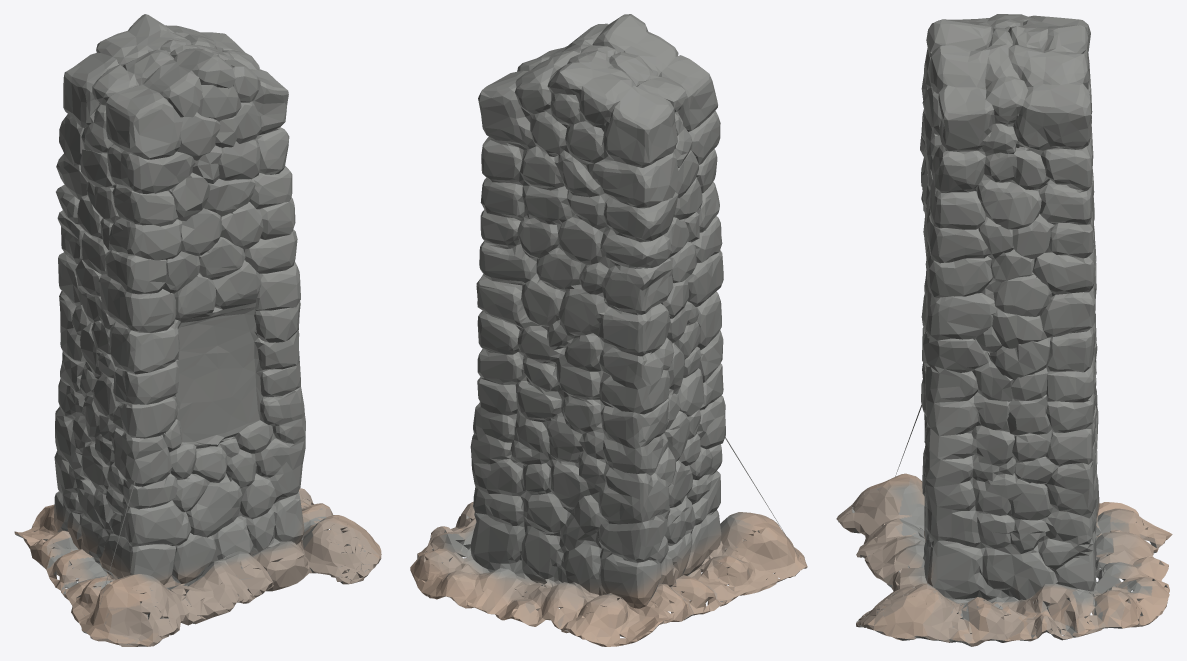
The model's file is monument.glb.
The picture shows the model from 3 angles, left to right: view 1: azimuth 30°, elevation 25°; view 2: azimuth 150°, elevation 25°; view 3: azimuth 270°, elevation 25°; orthographic projection. The views are drawn at different scales.
Visible parts, largest first — view 1: white_mesh (3); view 2: white_mesh (3); view 3: white_mesh (3).
Boxes of the visible parts, x1=… form: white_mesh (3): x1=14, y1=14, x2=381, y2=646; white_mesh (3): x1=410, y1=14, x2=807, y2=646; white_mesh (3): x1=836, y1=14, x2=1172, y2=646.
Size of the model in its own units: 1.17 by 1.98 by 1.08.
Materials: 1 (1 with a texture image).
